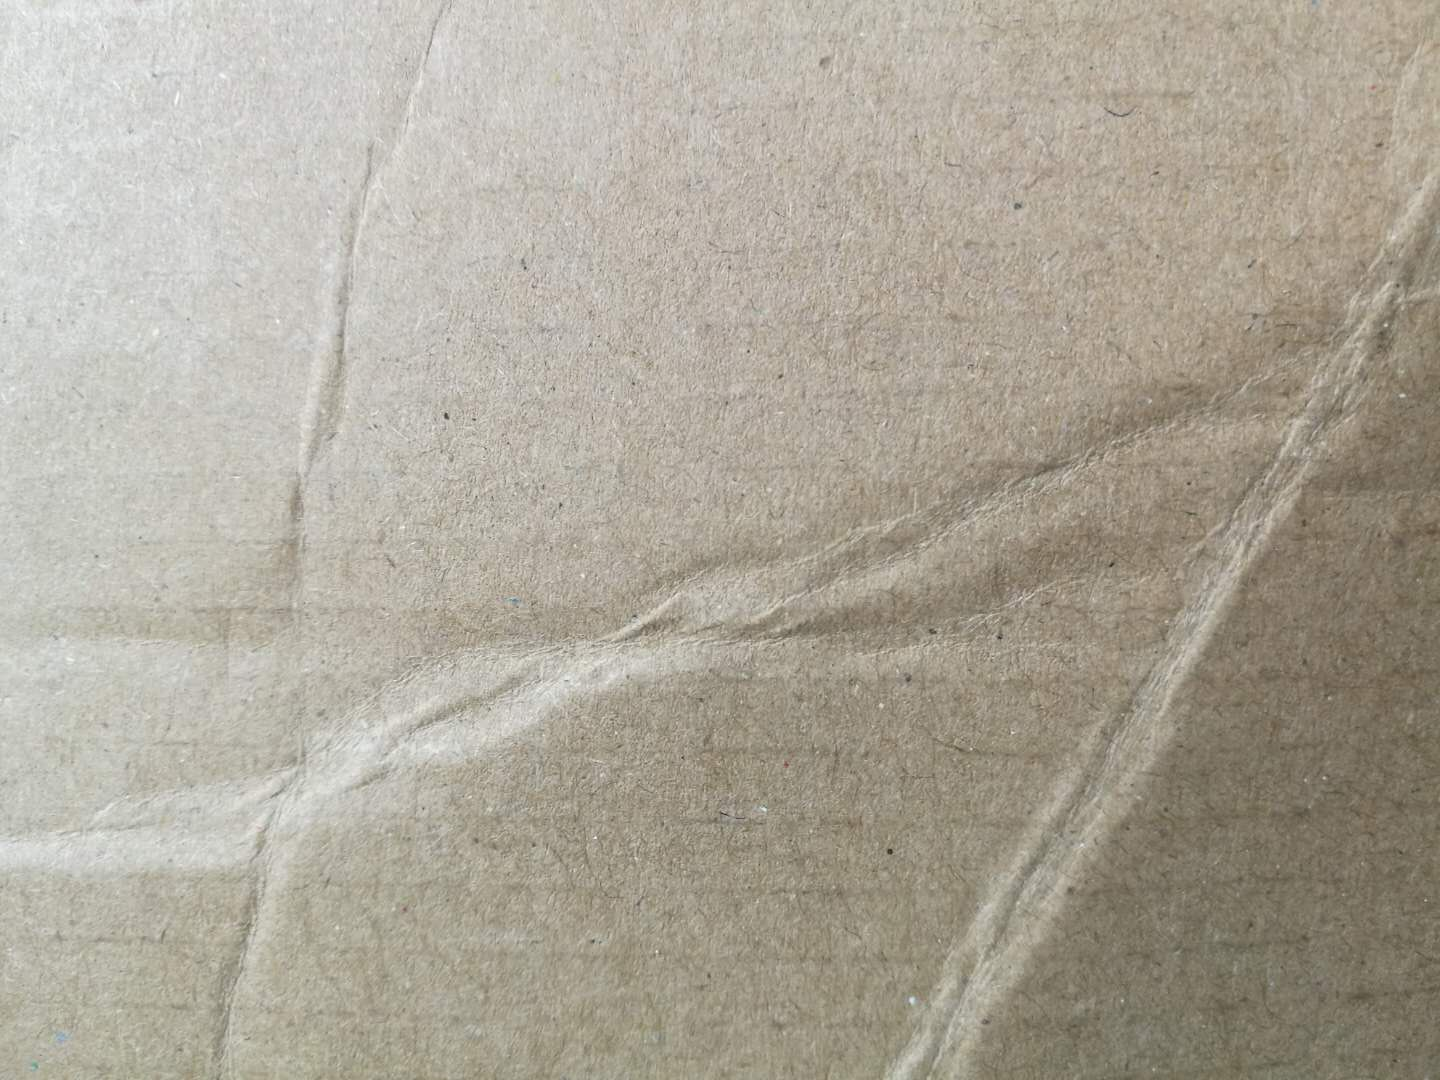defect: (3, 177, 1439, 916), (845, 26, 1440, 1075), (156, 2, 488, 1080)
